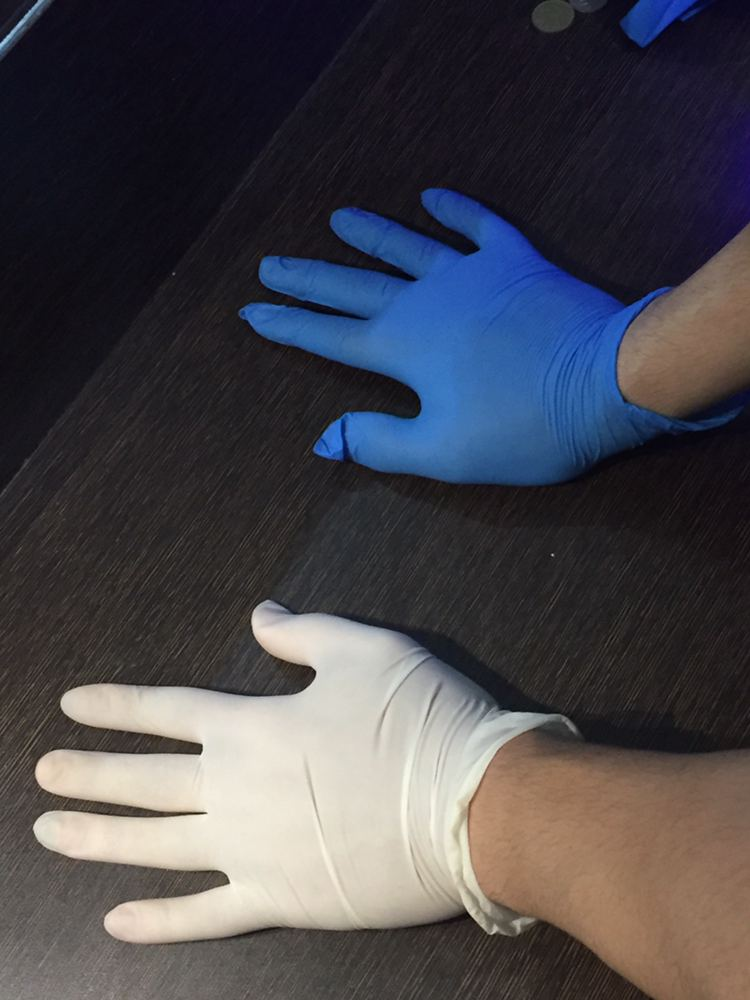glove: (17, 603, 510, 972), (213, 166, 646, 551)
